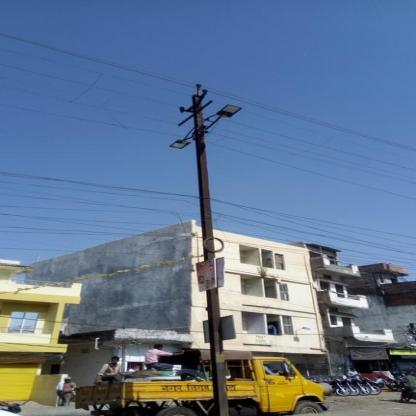Electrical Pole: (162, 80, 269, 415)
